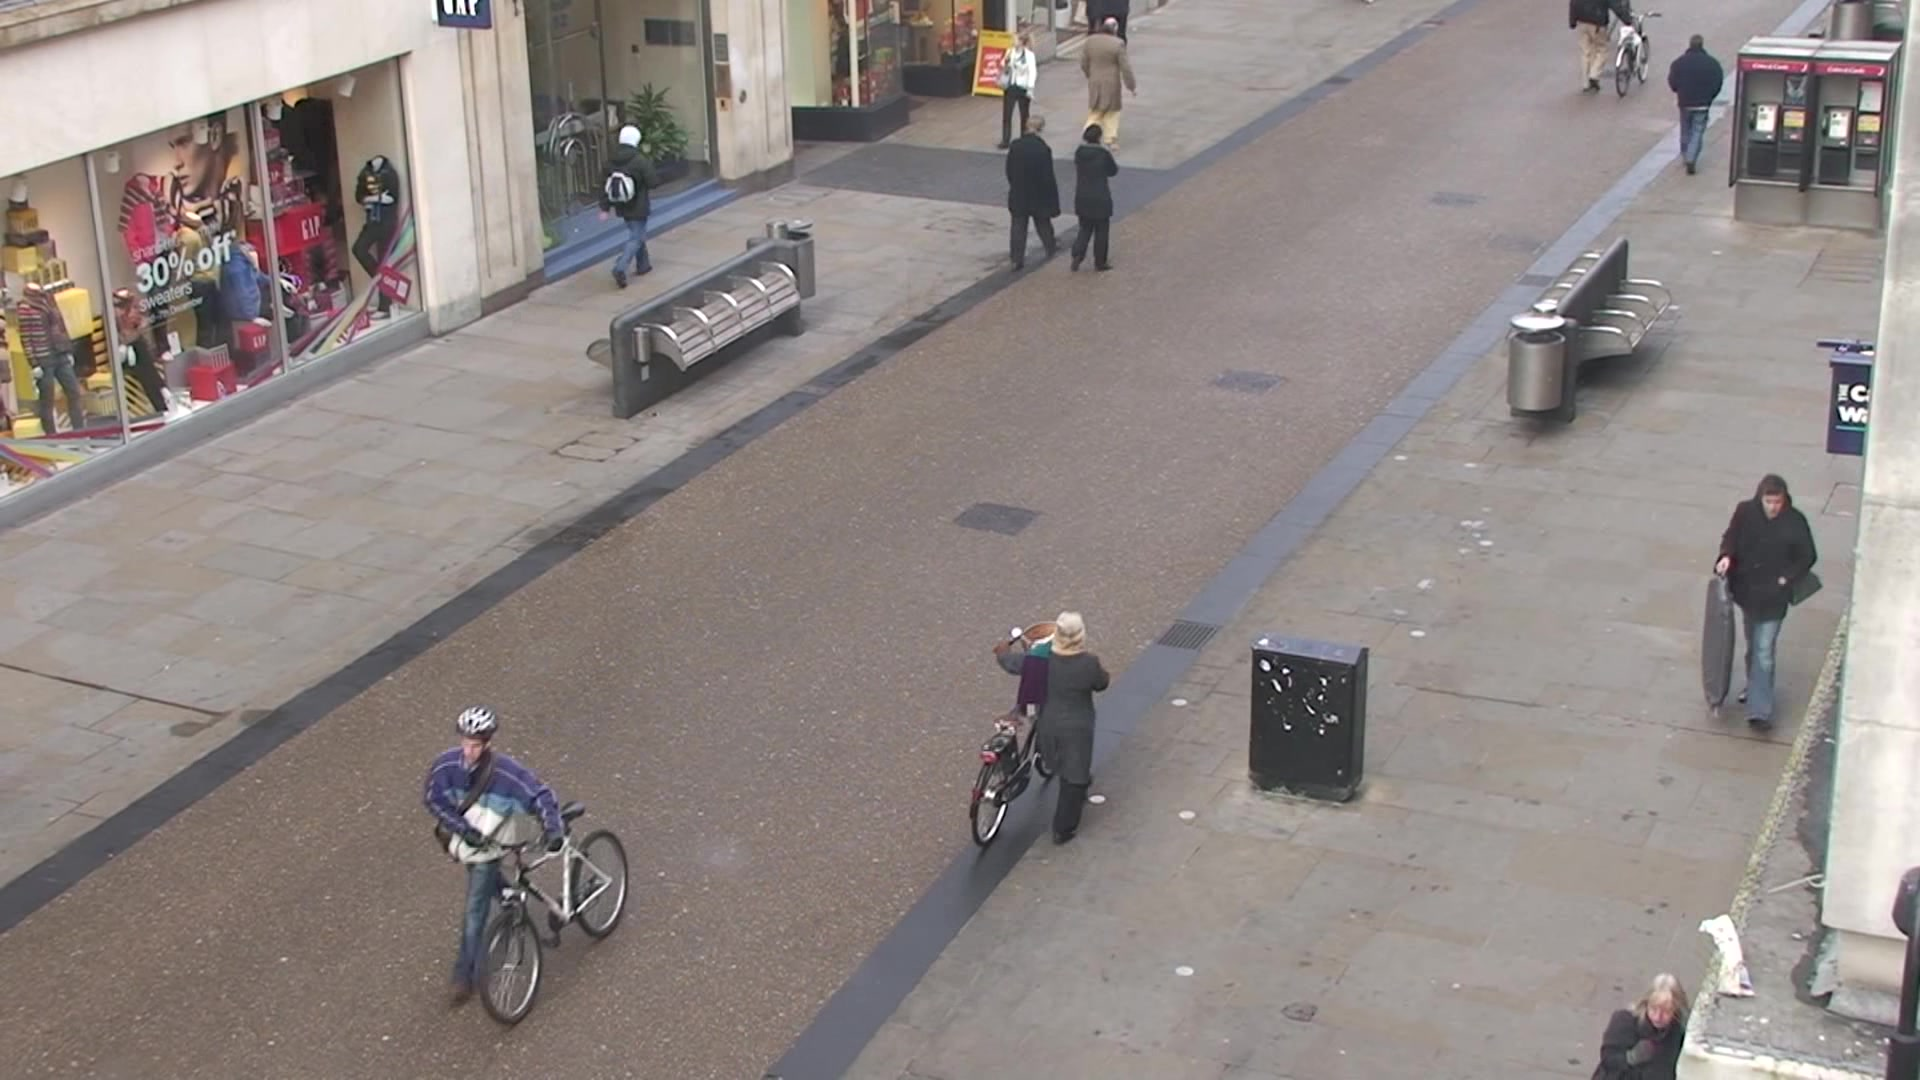person: (424, 704, 566, 1013), (1713, 475, 1818, 739), (993, 607, 1107, 847), (593, 124, 663, 293), (1005, 116, 1066, 275), (1069, 121, 1124, 284), (1078, 15, 1139, 154), (1666, 34, 1724, 179), (996, 27, 1042, 154)
